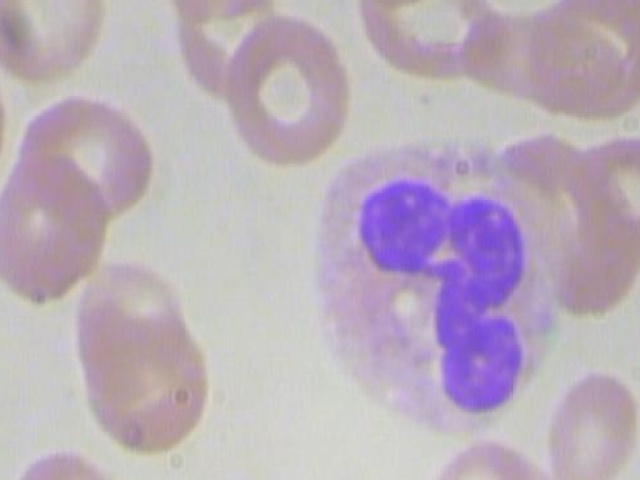RBC: (64, 304, 220, 462), (216, 13, 372, 170), (0, 148, 131, 305), (525, 0, 640, 122), (540, 365, 640, 480), (0, 0, 123, 82), (416, 439, 563, 480), (148, 0, 299, 31), (0, 48, 29, 199), (37, 461, 193, 480)
WBC: (291, 138, 573, 441)
